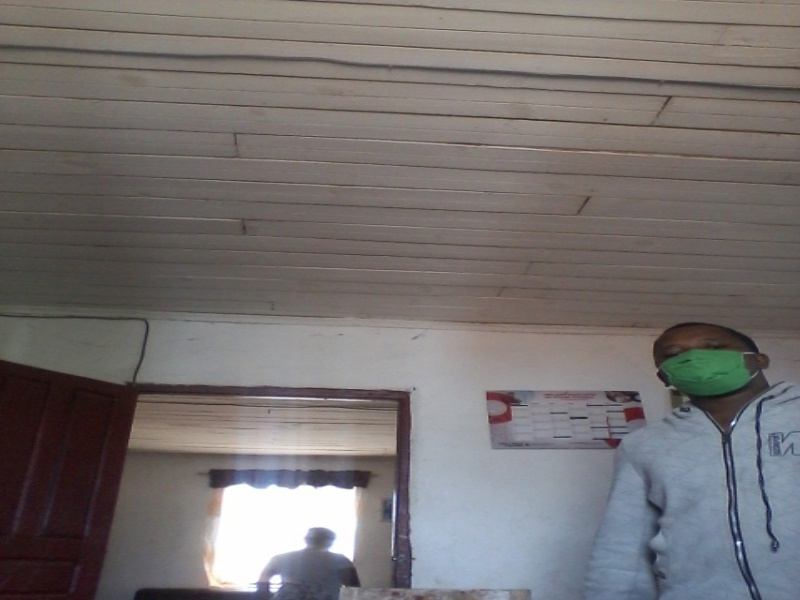ManaoArotava: (642, 314, 771, 417)
